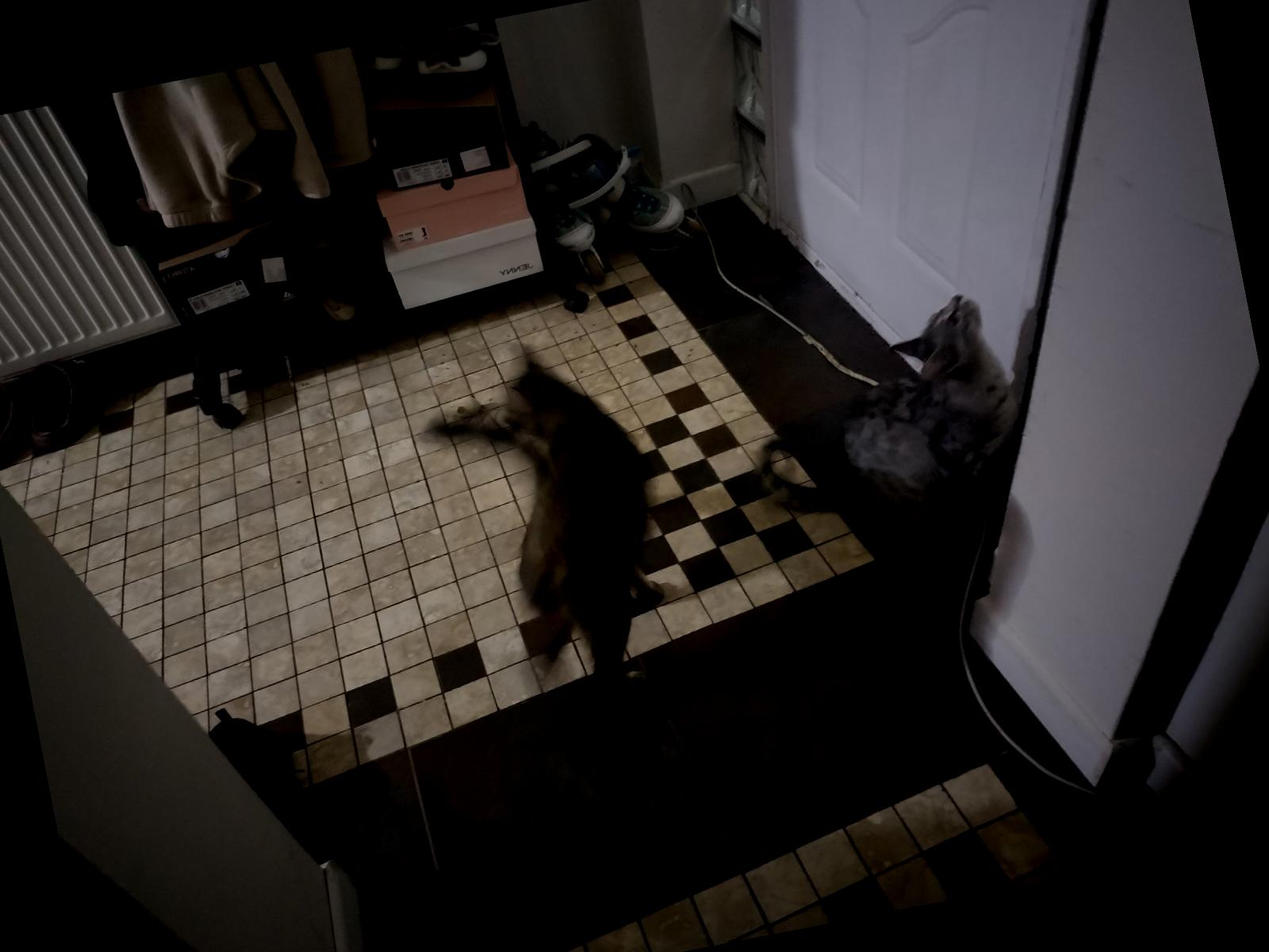macka: (407, 322, 692, 729), (721, 281, 1054, 572)
